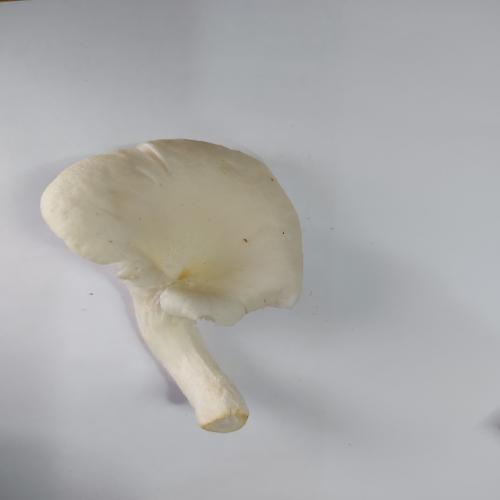Oyster Mushroom: (39, 137, 305, 434)
